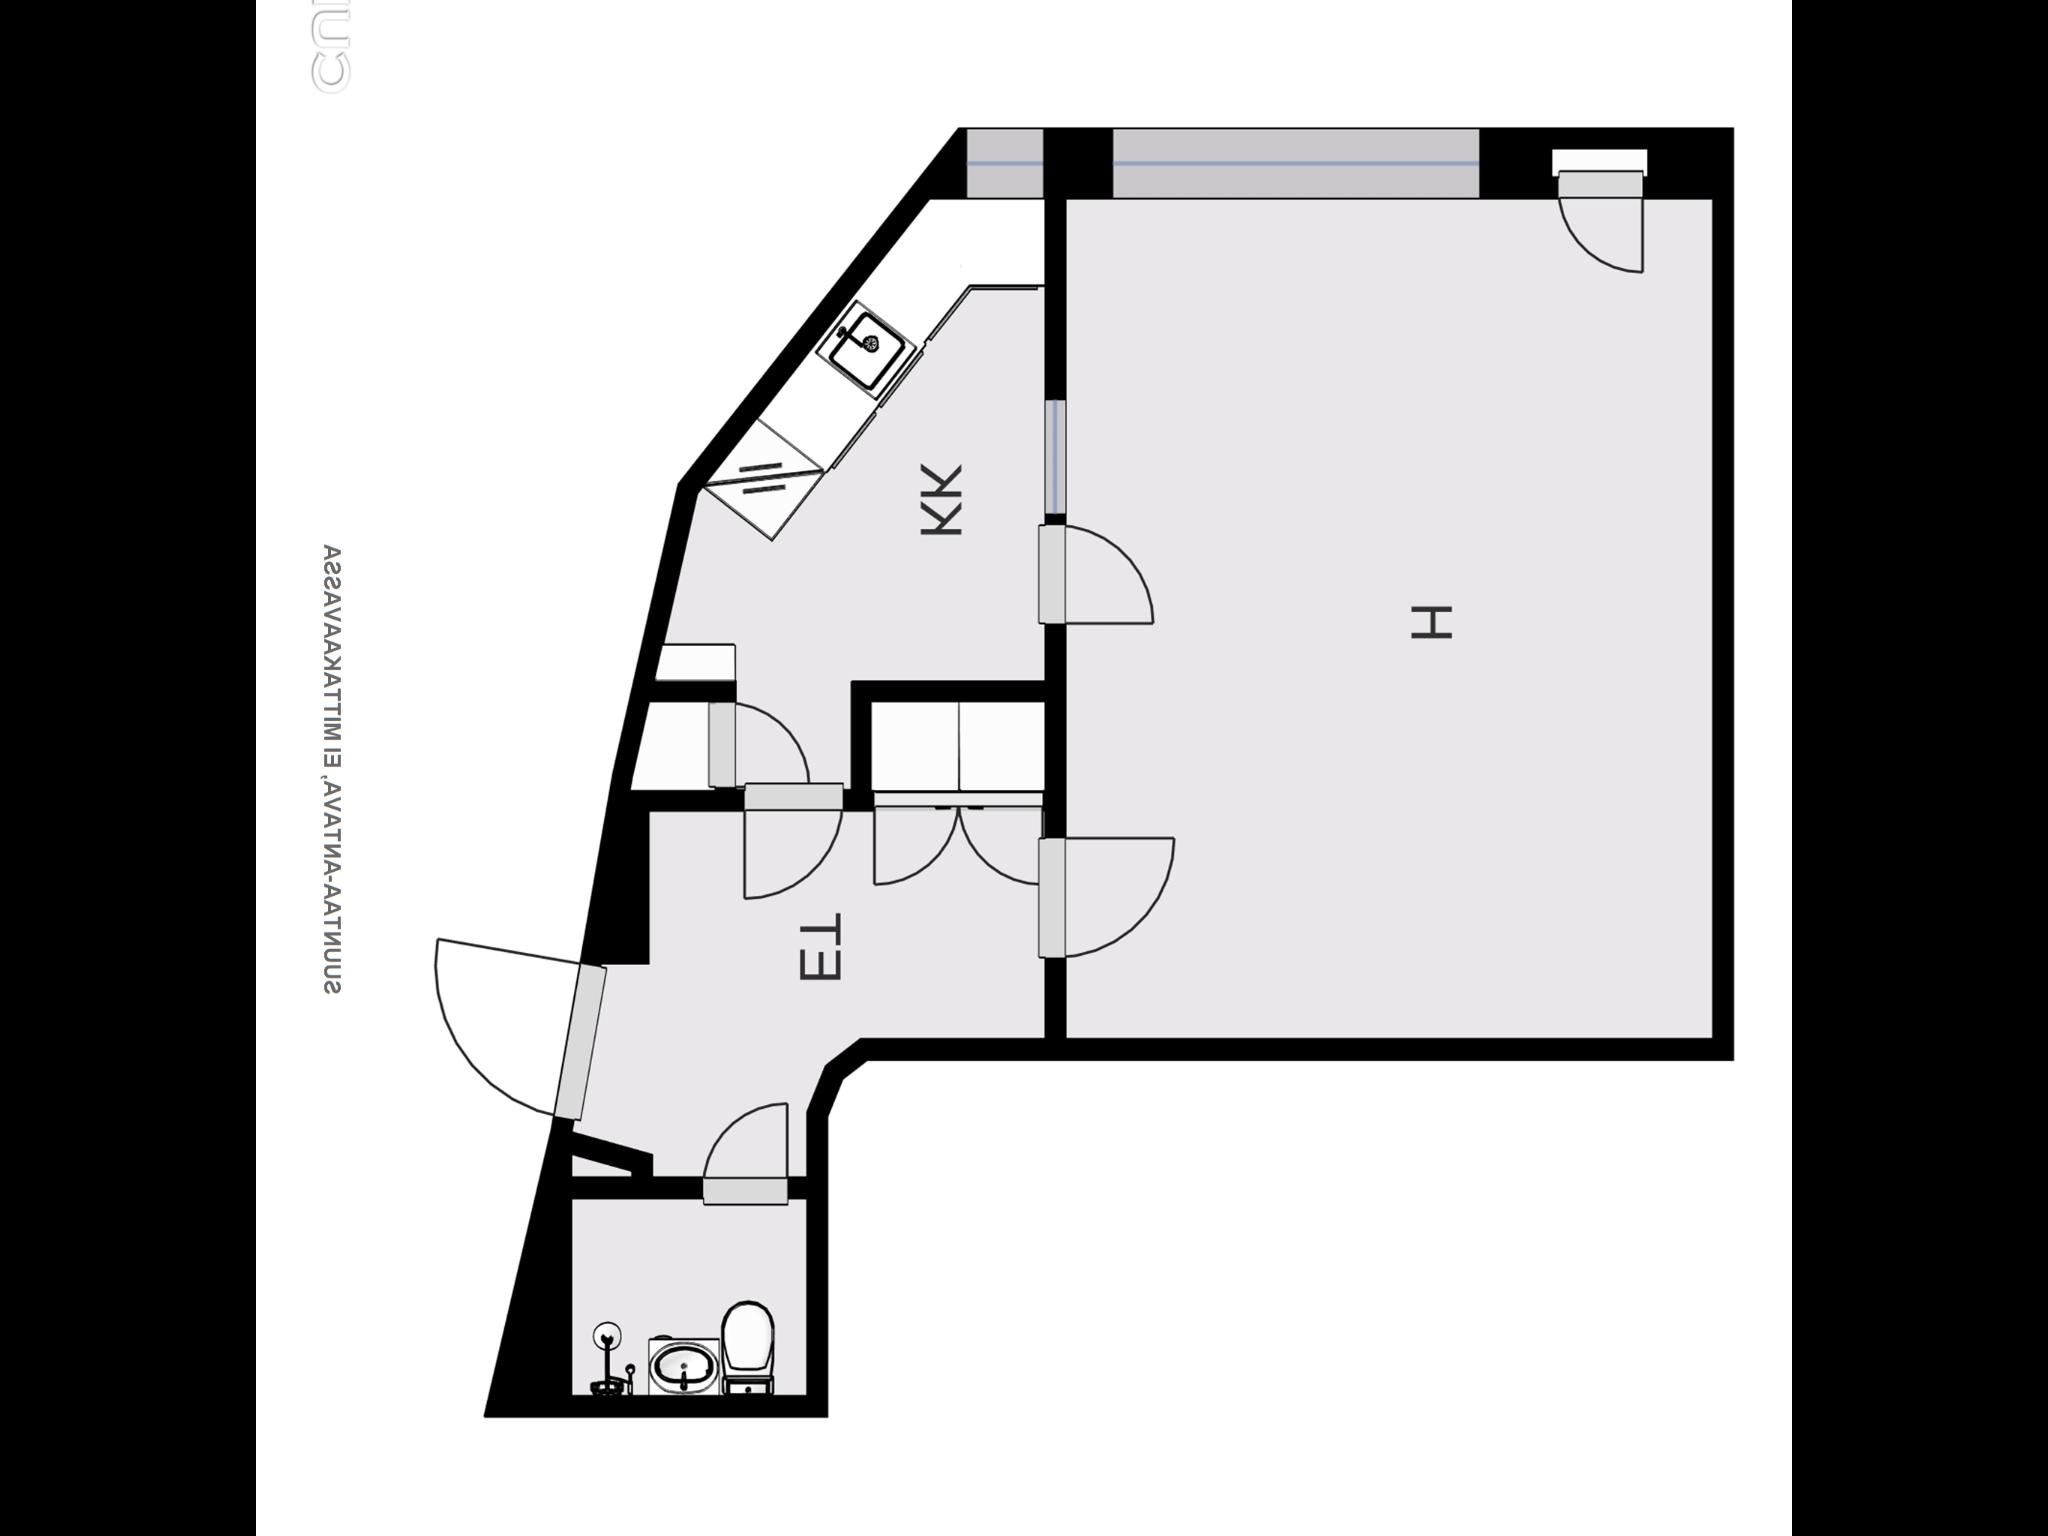door: (426, 920, 608, 1128), (1026, 823, 1184, 968), (734, 774, 853, 918), (1029, 516, 1159, 636), (1545, 142, 1653, 282), (697, 1086, 792, 1213), (700, 695, 816, 792), (869, 786, 964, 899), (959, 792, 1050, 894)
window: (1100, 105, 1509, 216), (948, 116, 1059, 205), (1029, 381, 1080, 526)
